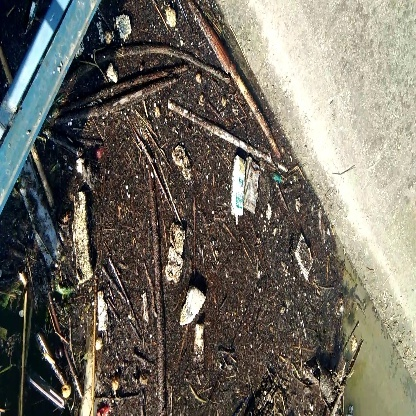branch: (190, 2, 287, 159), (136, 174, 170, 411), (64, 79, 171, 124)
milk-box: (224, 156, 245, 226)
